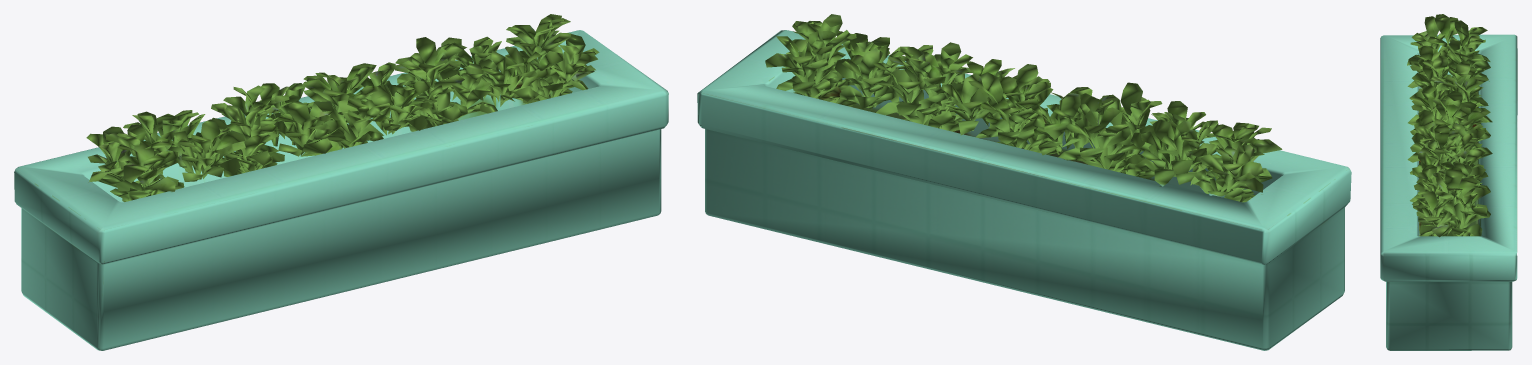
File: planter.fbx
3 renders of one model, left to right at view 1: azimuth 30°, elevation 25°; view 2: azimuth 150°, elevation 25°; view 3: azimuth 270°, elevation 25°, orthographic. The views are drawn at different scales.
Visible parts, largest first — view 1: Mesh_0; view 2: Mesh_0; view 3: Mesh_0.
Part boxes in pixels (x1=…): Mesh_0: x1=14, y1=14, x2=668, y2=350; Mesh_0: x1=697, y1=14, x2=1351, y2=350; Mesh_0: x1=1380, y1=14, x2=1517, y2=350.
Size of the model in its own units: 95.75 by 29.74 by 25.24.
1 material, 1 textured.
